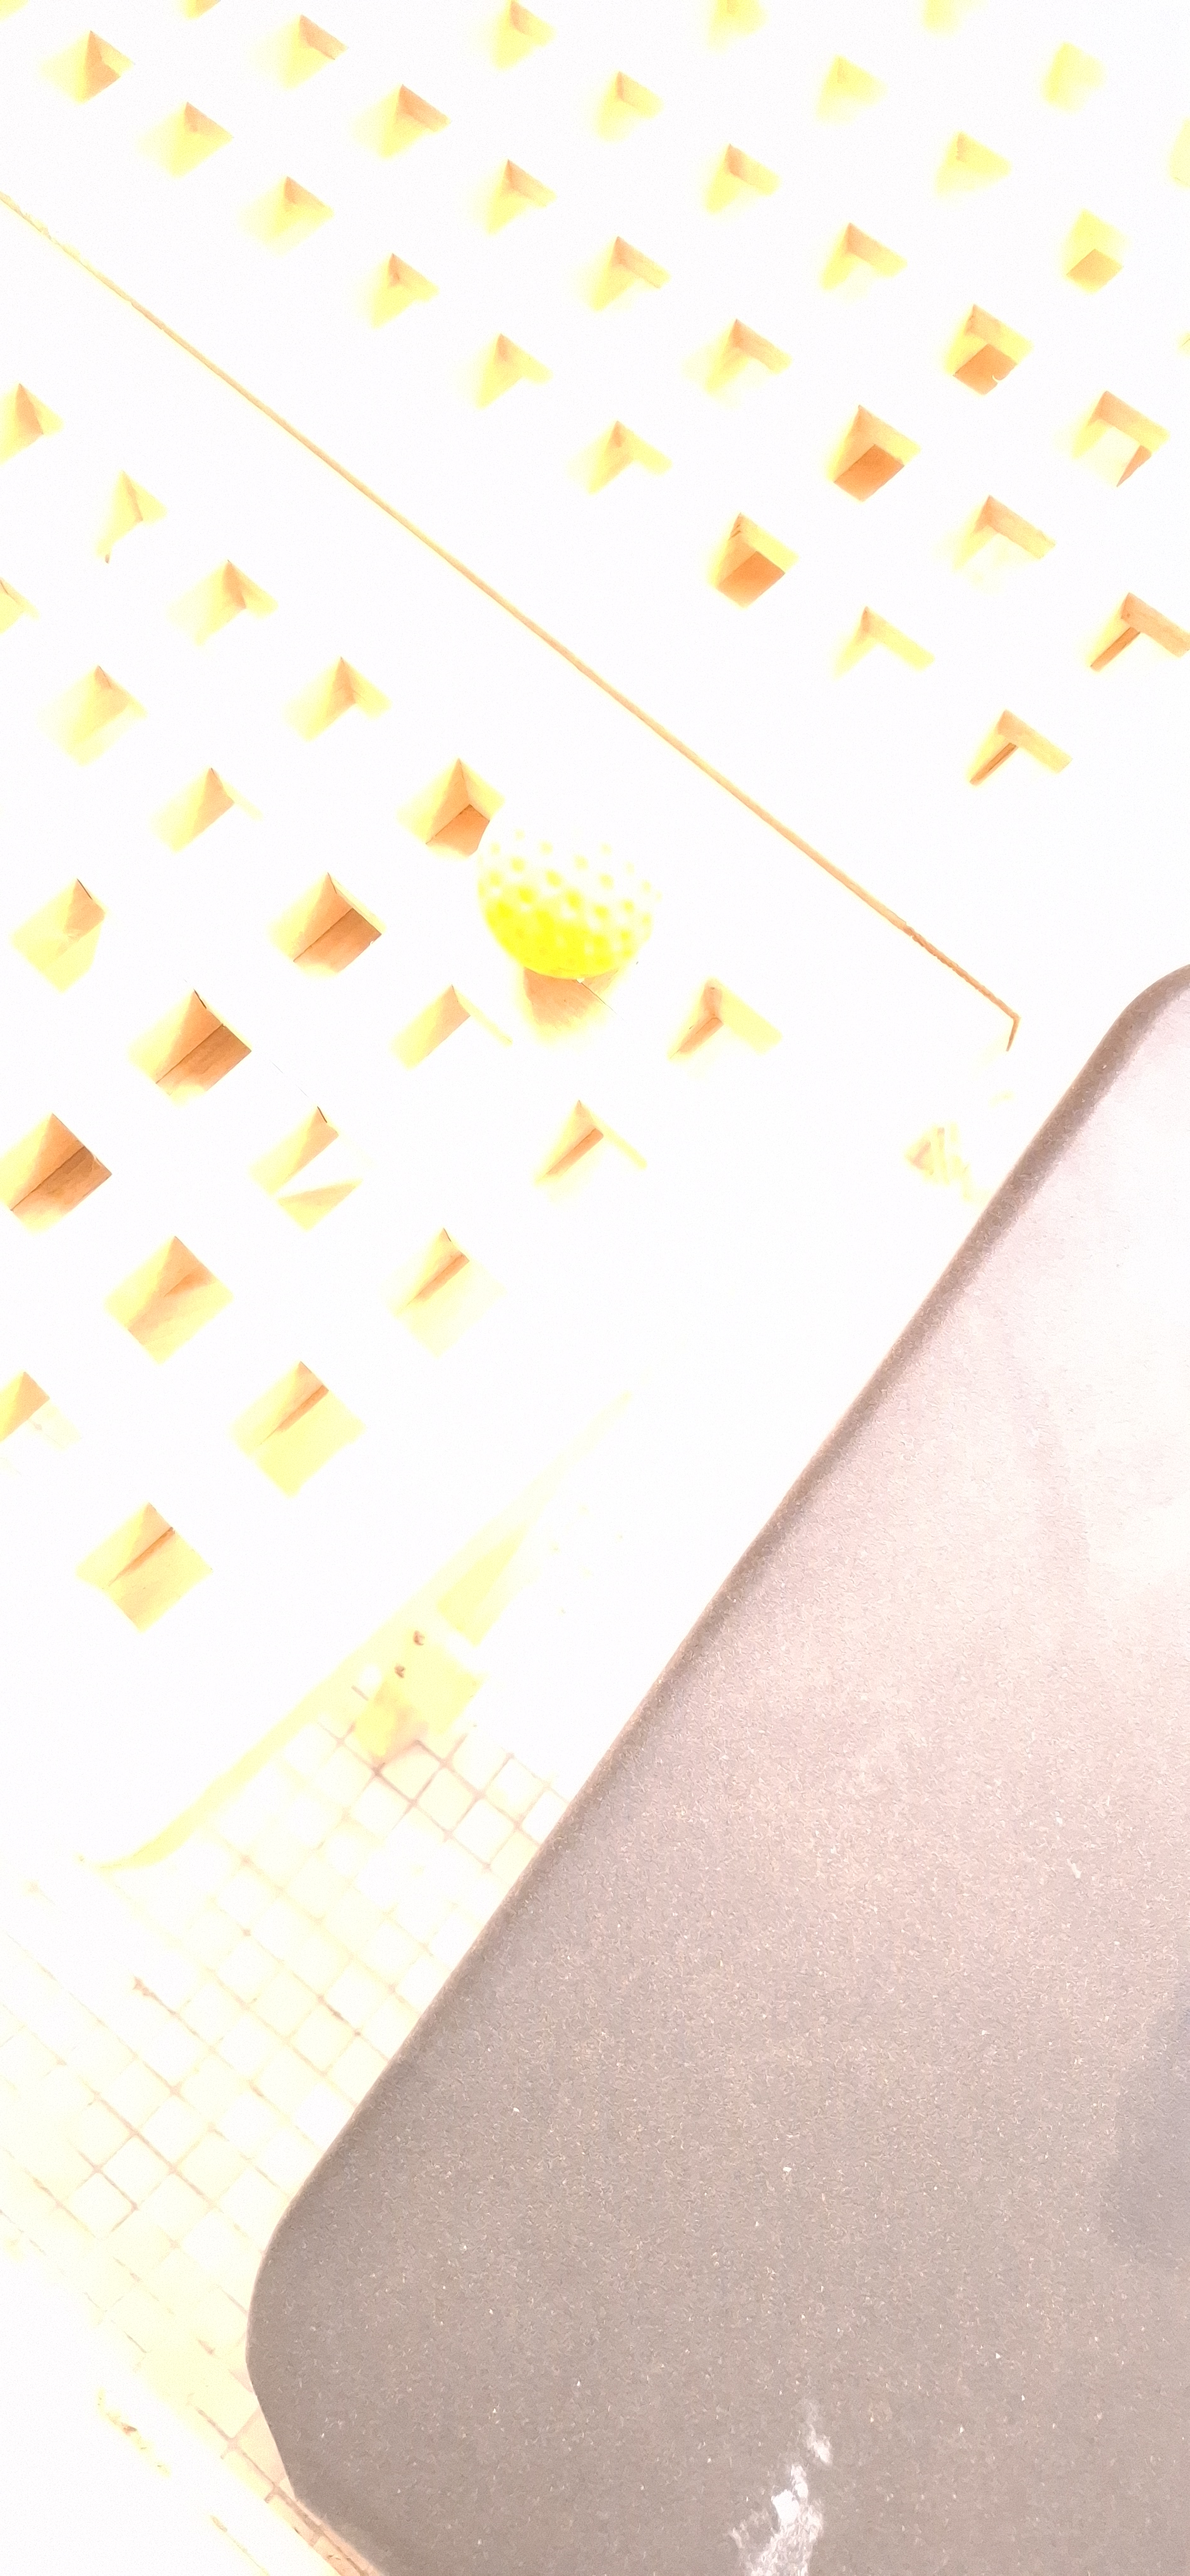ball: (367, 1147, 452, 1543)
